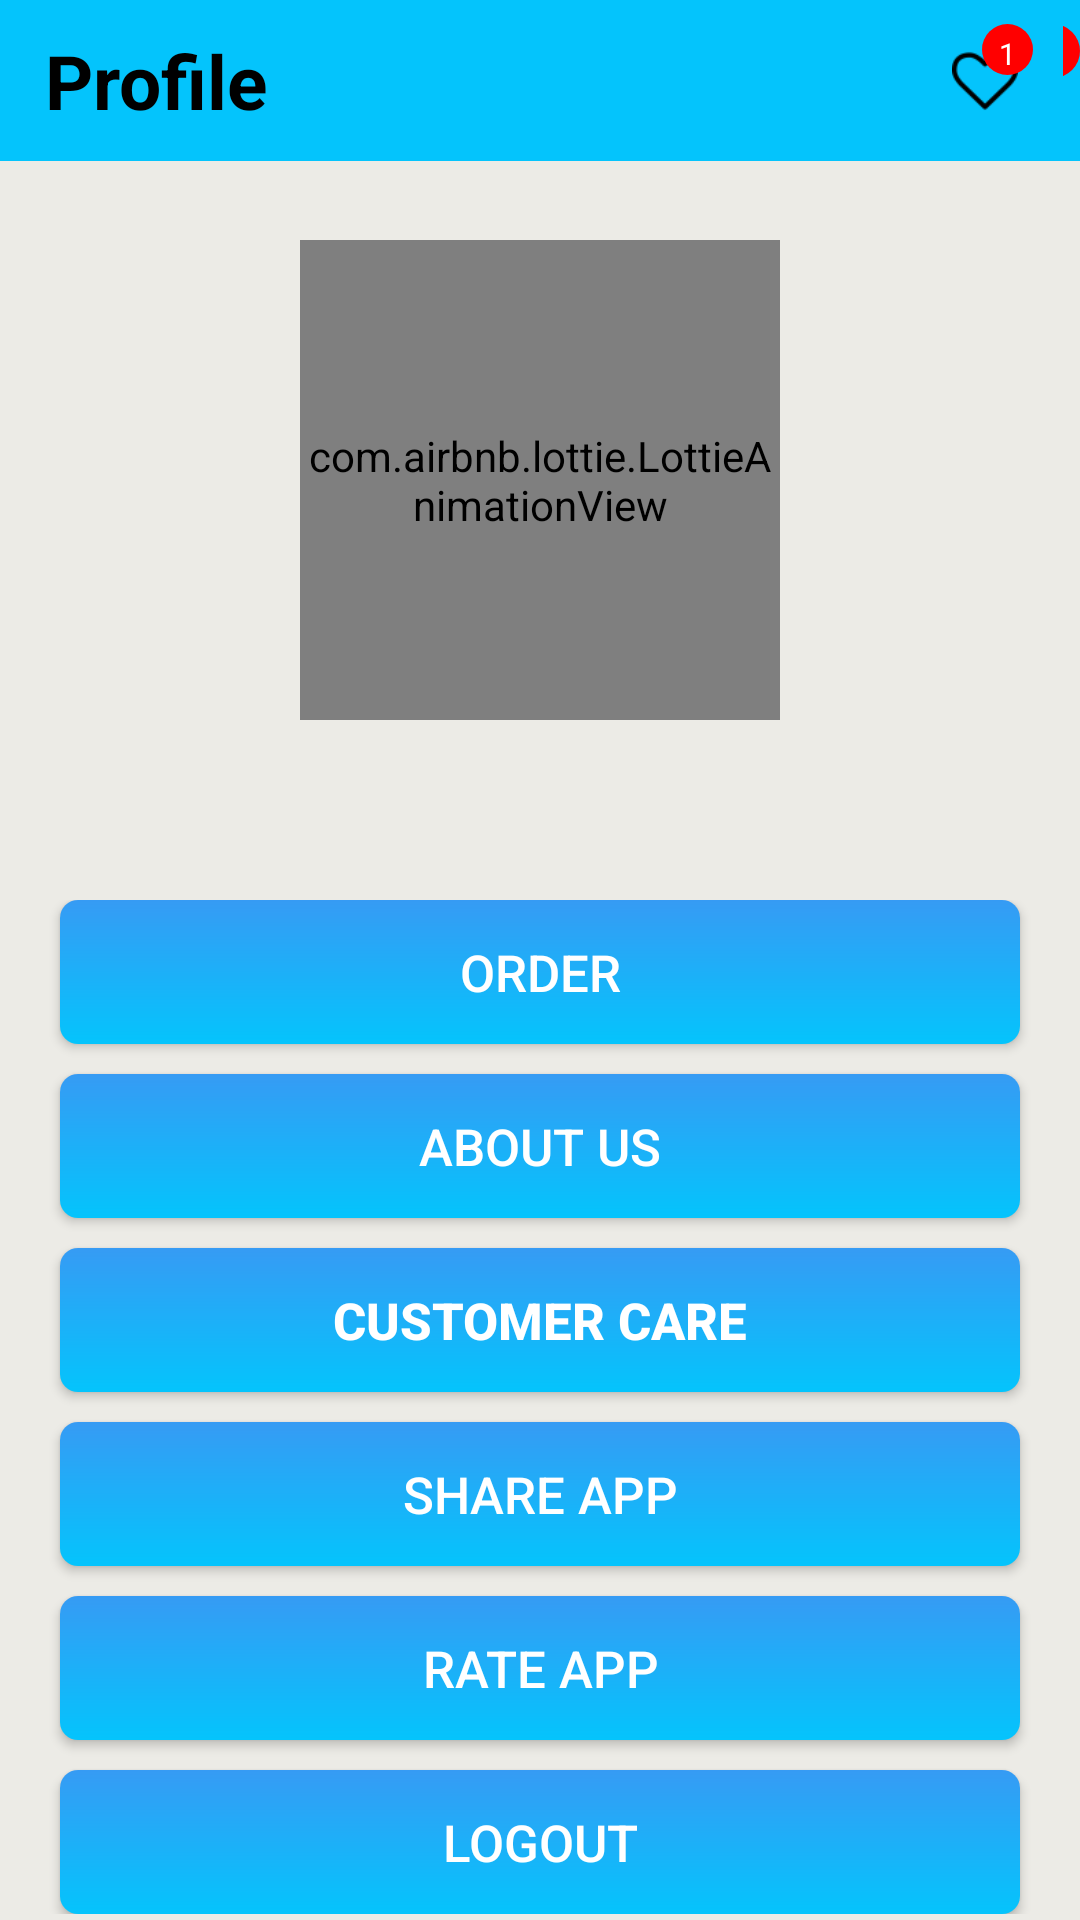

Named icons in this screenshot (1080px×1920px) and their bounding boxes, {"left": x1, "top": y1, "right": x2, "bottom": y2}:
heart: {"left": 952, "top": 48, "right": 1018, "bottom": 110}
